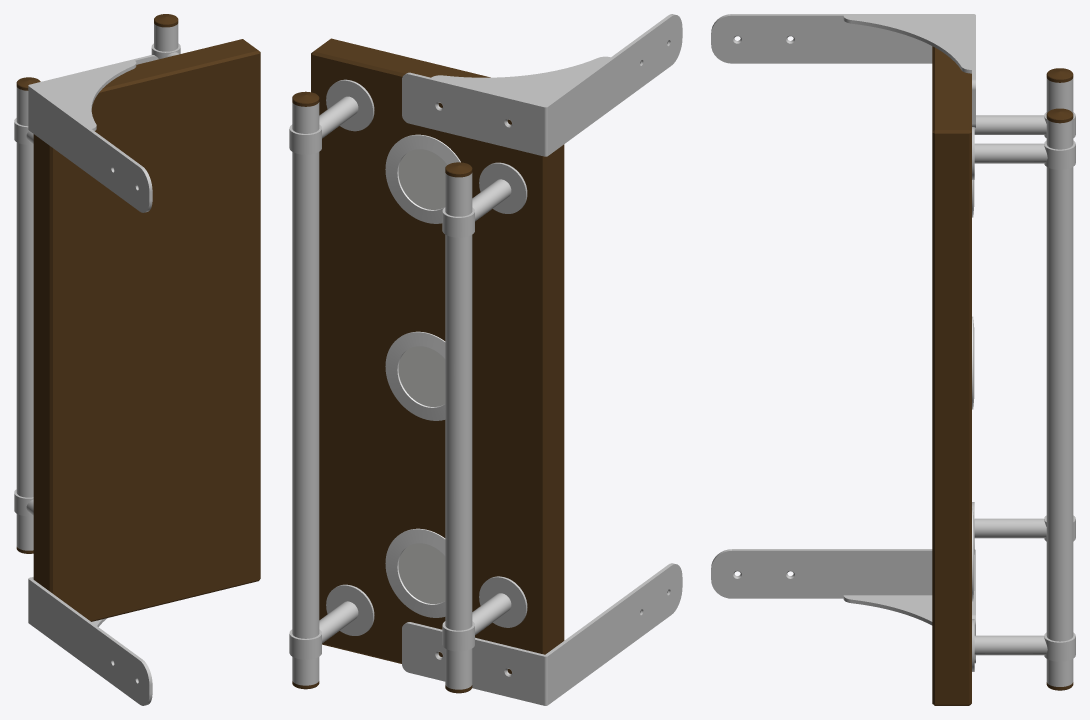
Rendered from pot rack.fbx.
The picture shows the model from 3 angles, left to right: view 1: azimuth 30°, elevation 25°; view 2: azimuth 150°, elevation 25°; view 3: azimuth 270°, elevation 25°; orthographic projection. The views are drawn at different scales.
Parts seen in each view (by area): view 1: Body1 (×6); view 2: Body1 (×9), Body37, Body35, Body33, Body36, Body34, Body32; view 3: Body1 (×9).
Part boxes in pixels (x1,y1,x2,y2): Body1 (×6): [14, 23, 260, 705]; Body1 (×9): [289, 14, 682, 705]; Body37: [398, 149, 446, 209]; Body35: [398, 346, 445, 406]; Body33: [398, 543, 445, 603]; Body36: [385, 134, 460, 223]; Body34: [385, 331, 445, 420]; Body32: [385, 528, 445, 617]; Body1 (×9): [711, 14, 1075, 705].
Size of the model in its own units: 10.15 by 24.3 by 13.78.
